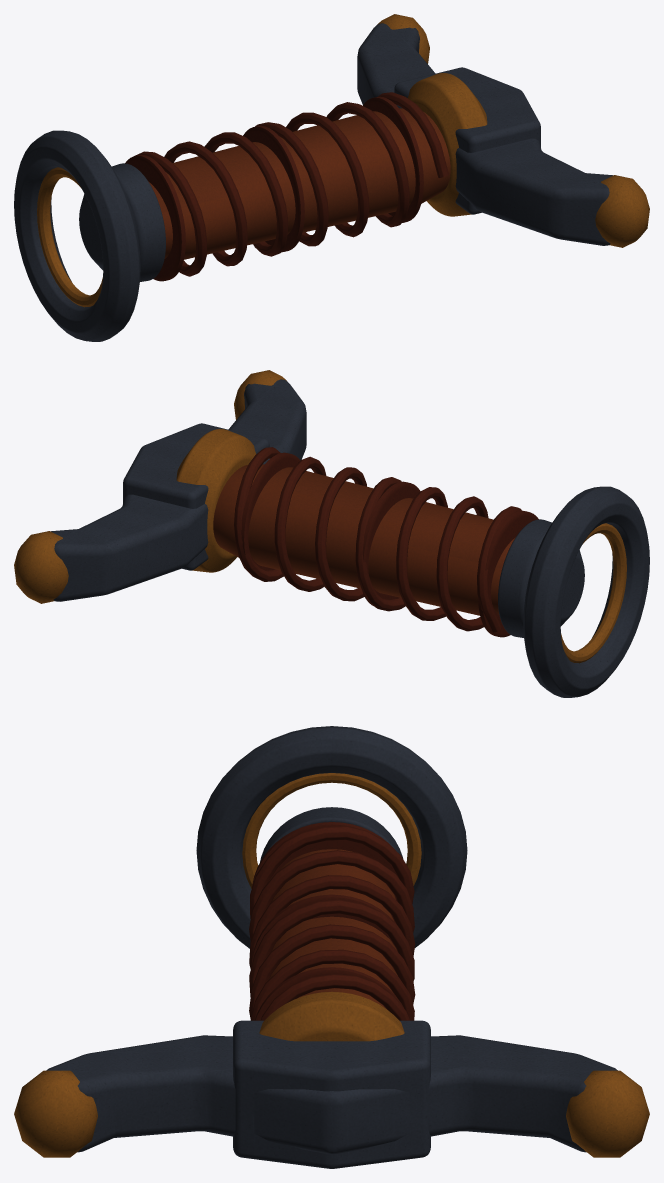
Rendered from fittings-basilard.glb.
The picture shows the model from 3 angles, top to bottom: view 1: azimuth 30°, elevation 25°; view 2: azimuth 150°, elevation 25°; view 3: azimuth 270°, elevation 25°; orthographic projection. The views are drawn at different scales.
Visible parts, largest first — view 1: Basilard_GripCore, Basilard_Guard, Basilard_RingPommel, Basilard_Wrap, Basilard_Ecusson, Basilard_Collar, Basilard_PommelNeck, Basilard_QuillonR, Basilard_RingInlay, Basilard_Riser2, Basilard_Riser1, Basilard_Riser0 (+1 smaller); view 2: Basilard_GripCore, Basilard_Guard, Basilard_RingPommel, Basilard_Wrap, Basilard_Ecusson, Basilard_Collar, Basilard_PommelNeck, Basilard_QuillonL, Basilard_RingInlay, Basilard_Riser2, Basilard_Riser0, Basilard_Riser1 (+1 smaller); view 3: Basilard_Guard, Basilard_RingPommel, Basilard_Wrap, Basilard_Ecusson, Basilard_QuillonL, Basilard_QuillonR, Basilard_Collar, Basilard_GripCore, Basilard_RingInlay, Basilard_PommelNeck, Basilard_Riser2, Basilard_Riser1 (+1 smaller).
Boxes of the visible parts, left/top/right/bottom form: Basilard_GripCore: left=148, top=108, right=450, bottom=259; Basilard_Guard: left=357, top=23, right=612, bottom=245; Basilard_RingPommel: left=14, top=130, right=140, bottom=341; Basilard_Wrap: left=135, top=92, right=448, bottom=276; Basilard_Ecusson: left=394, top=67, right=540, bottom=214; Basilard_Collar: left=408, top=73, right=487, bottom=216; Basilard_PommelNeck: left=79, top=163, right=165, bottom=281; Basilard_QuillonR: left=595, top=175, right=649, bottom=247; Basilard_RingInlay: left=37, top=167, right=102, bottom=307; Basilard_Riser2: left=125, top=154, right=185, bottom=281; Basilard_Riser1: left=243, top=125, right=304, bottom=252; Basilard_Riser0: left=363, top=96, right=423, bottom=222; Basilard_GripCore: left=213, top=464, right=515, bottom=615; Basilard_Guard: left=51, top=379, right=306, bottom=601; Basilard_RingPommel: left=523, top=486, right=649, bottom=697; Basilard_Wrap: left=234, top=447, right=521, bottom=632; Basilard_Ecusson: left=123, top=423, right=269, bottom=570; Basilard_Collar: left=176, top=429, right=255, bottom=572; Basilard_PommelNeck: left=498, top=519, right=584, bottom=637; Basilard_QuillonL: left=14, top=531, right=68, bottom=603; Basilard_RingInlay: left=561, top=523, right=626, bottom=663; Basilard_Riser2: left=478, top=510, right=538, bottom=637; Basilard_Riser0: left=241, top=452, right=299, bottom=570; Basilard_Riser1: left=362, top=481, right=420, bottom=605; Basilard_Guard: left=46, top=1035, right=617, bottom=1153; Basilard_RingPommel: left=196, top=726, right=467, bottom=948; Basilard_Wrap: left=249, top=826, right=415, bottom=1020; Basilard_Ecusson: left=233, top=1020, right=430, bottom=1168; Basilard_QuillonL: left=566, top=1070, right=649, bottom=1157; Basilard_QuillonR: left=14, top=1070, right=97, bottom=1157; Basilard_Collar: left=259, top=991, right=404, bottom=1041; Basilard_GripCore: left=269, top=849, right=397, bottom=1008; Basilard_RingInlay: left=242, top=773, right=421, bottom=888; Basilard_PommelNeck: left=260, top=807, right=403, bottom=861; Basilard_Riser2: left=252, top=822, right=412, bottom=902; Basilard_Riser1: left=251, top=894, right=403, bottom=964.
Size of the model in its own units: 0.7954 by 0.3153 by 0.74.
Materials: 4 (4 with a texture image).
